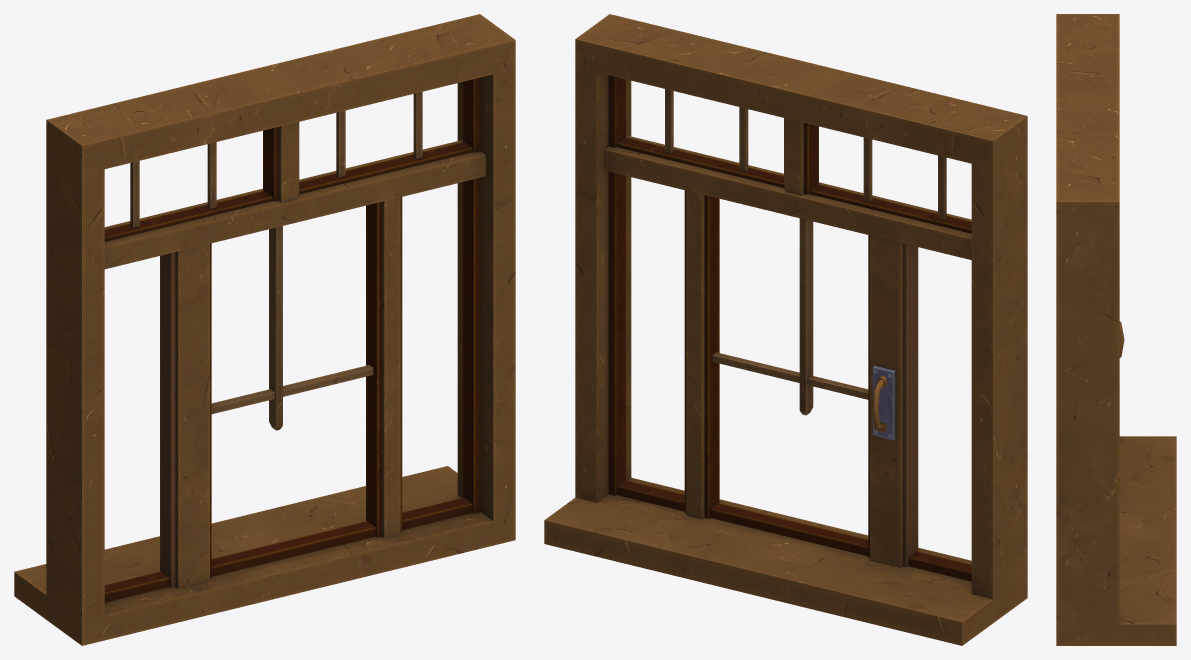
File: Window.obj
3 views of the same model, side by side, from view 1: azimuth 30°, elevation 25°; view 2: azimuth 150°, elevation 25°; view 3: azimuth 270°, elevation 25° (orthographic). The views are drawn at different scales.
Visible parts, largest first — view 1: Winodw; view 2: Winodw; view 3: Winodw.
Boxes of the visible parts, x1,y1,x2,y2 form: Winodw: (14,14,515,645); Winodw: (544,14,1027,645); Winodw: (1056,14,1176,645).
Bounding box in the file's own units: 8.42 × 9.28 × 2.28.
